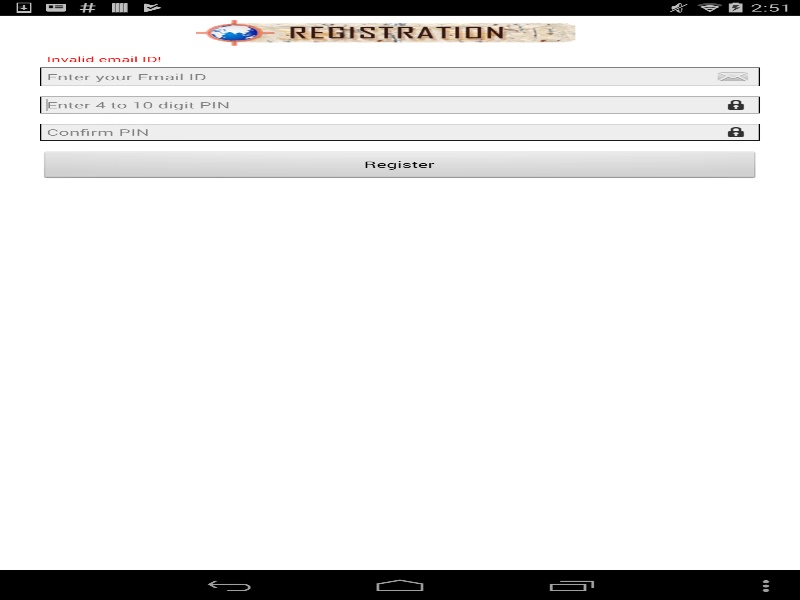Button: (40, 150, 760, 180)
Input: (40, 67, 760, 86), (40, 96, 760, 113), (40, 123, 760, 140)
